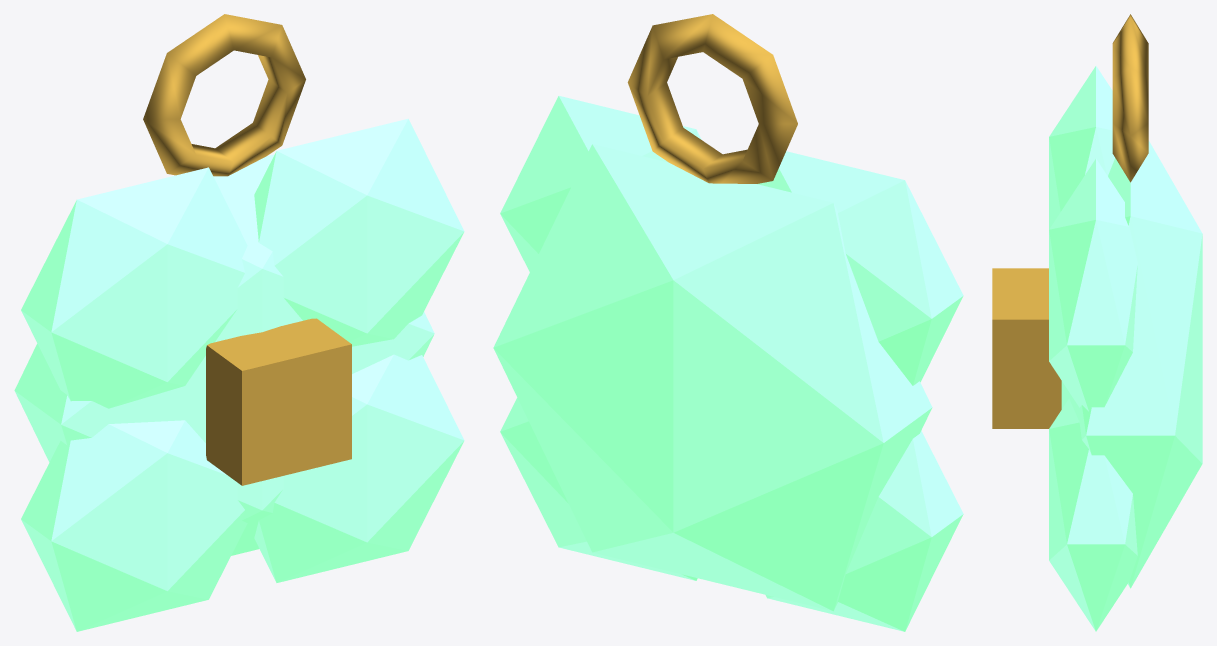
File: quiz_second_chance.glb
3 renders of one model, left to right at view 1: azimuth 30°, elevation 25°; view 2: azimuth 150°, elevation 25°; view 3: azimuth 270°, elevation 25°, orthographic. The views are drawn at different scales.
Parts seen in each view (by area): view 1: item_charmClover, item_charmGold; view 2: item_charmClover, item_charmGold; view 3: item_charmClover, item_charmGold.
Boxes of the visible parts, x1,y1,x2,y2 form: item_charmClover: (14, 118, 464, 631); item_charmGold: (143, 14, 351, 485); item_charmClover: (493, 96, 963, 631); item_charmGold: (627, 14, 797, 183); item_charmClover: (1049, 66, 1202, 631); item_charmGold: (992, 14, 1148, 428).
Bounding box in the file's own units: 0.1844 × 0.2406 × 0.0852.
